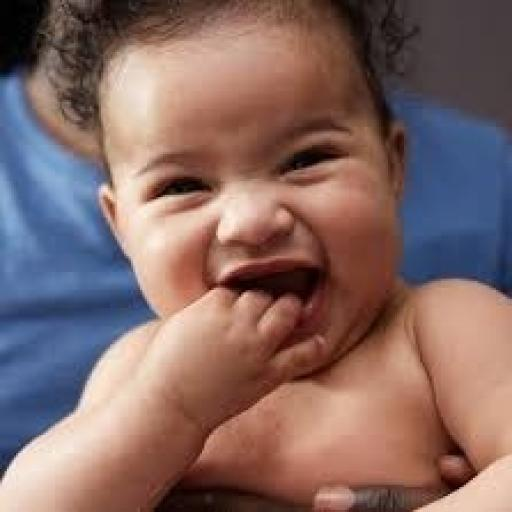laughing: (0, 0, 510, 510)
